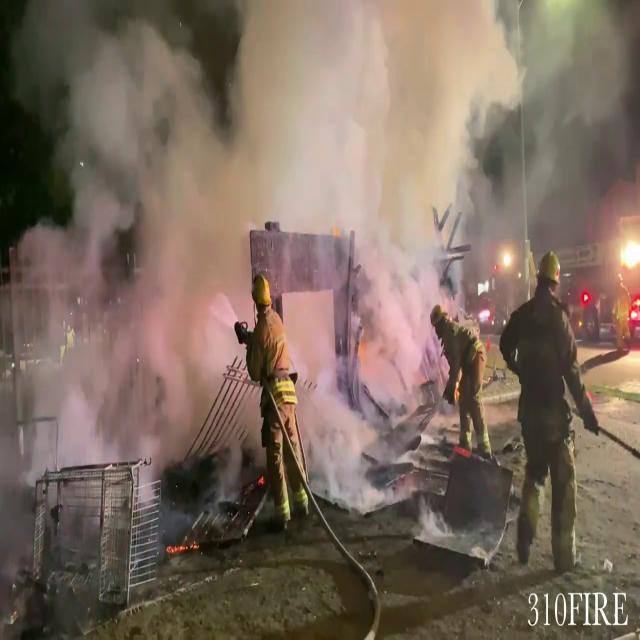Smoke: (10, 0, 482, 524)
